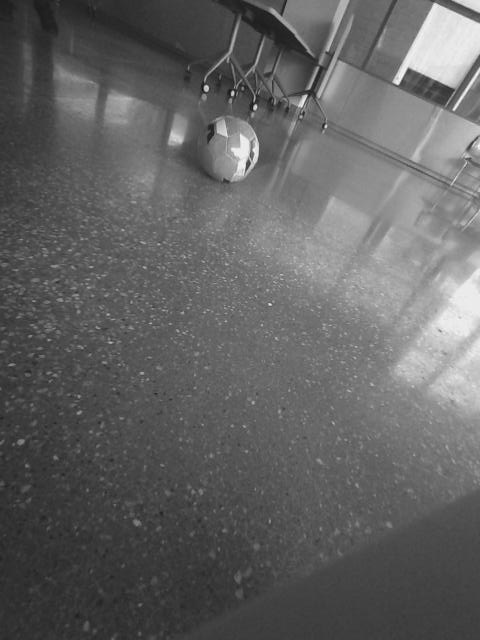ball: (193, 113, 263, 184)
